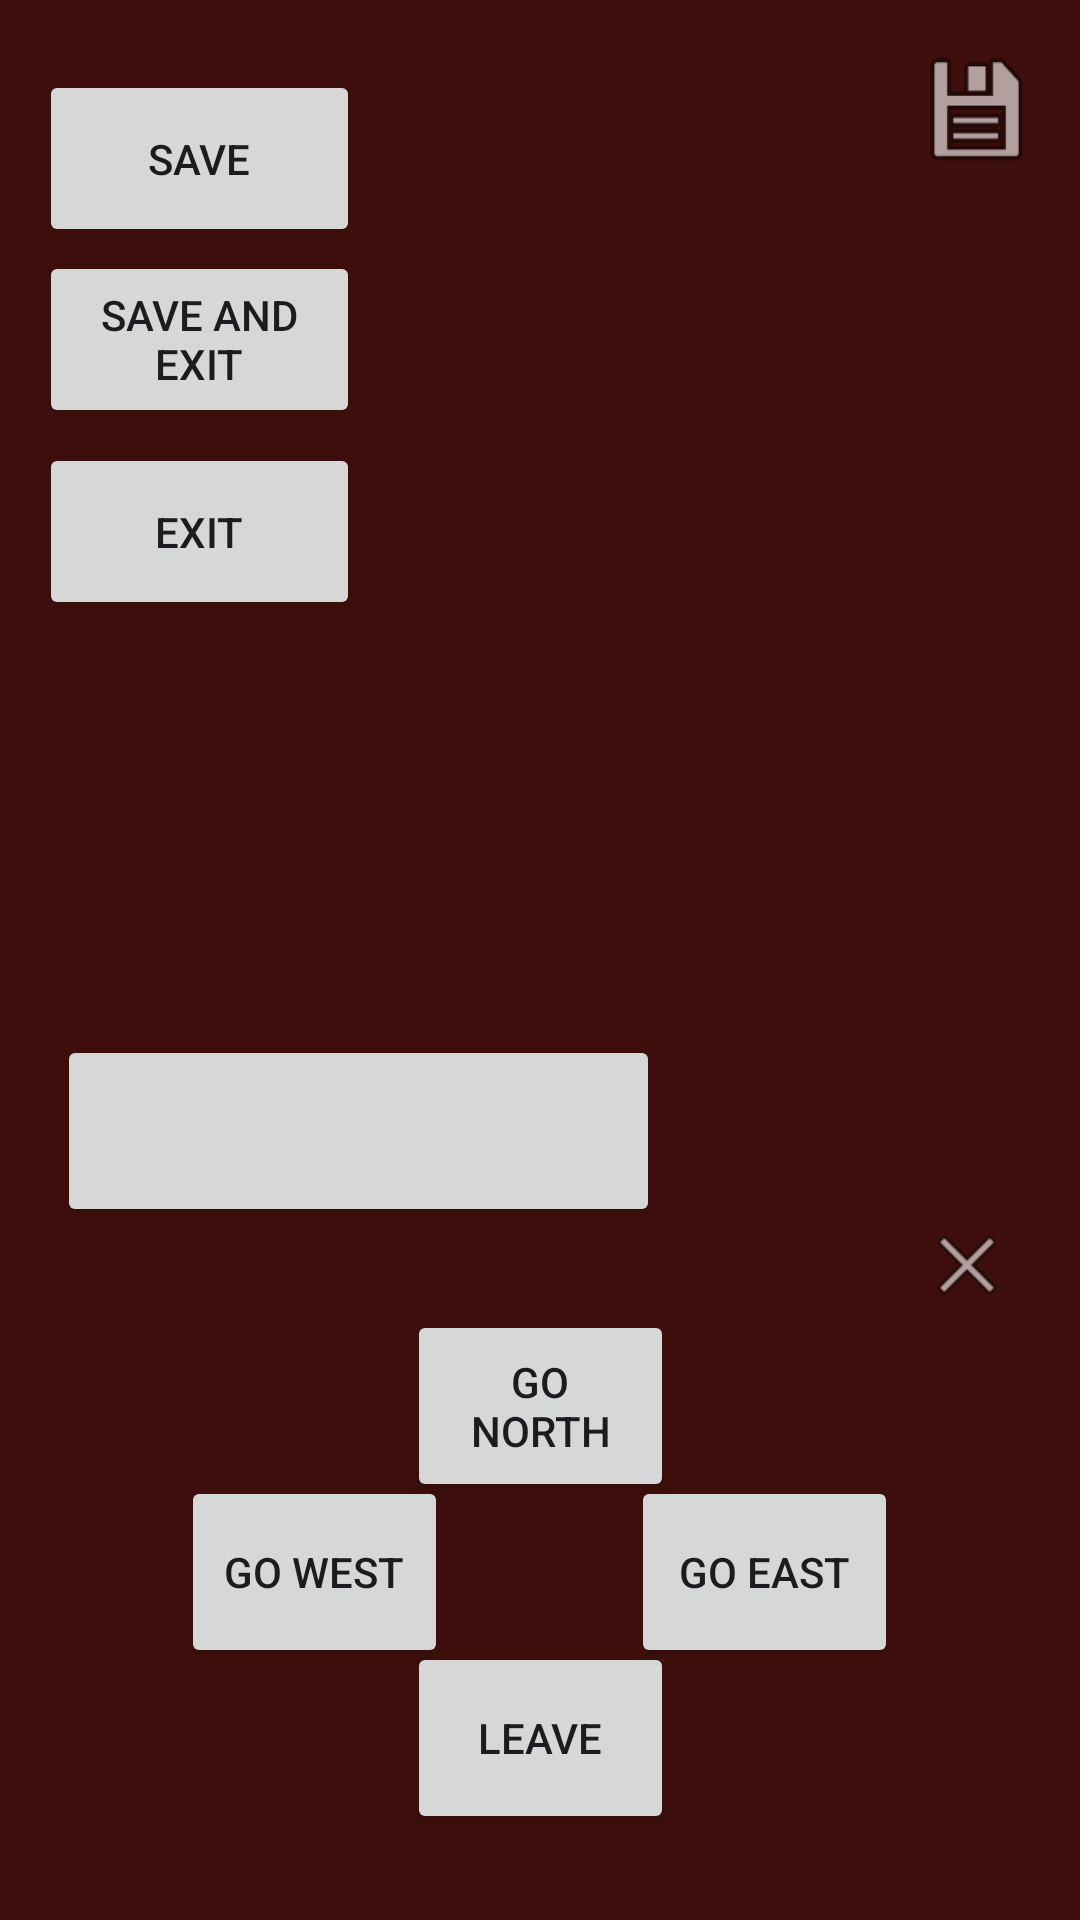

Where to tap for icons on this 1080x1920 app screen, as [x,y]:
save: [976,109]
